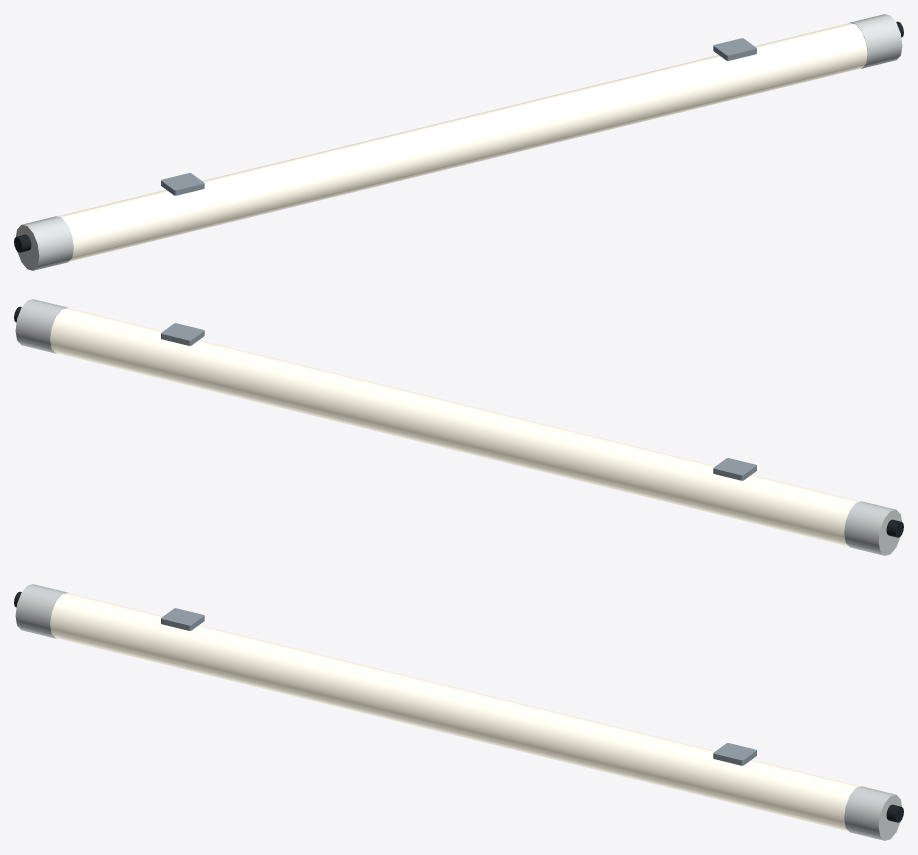
The model's file is source.glb.
3 renders of one model, top to bottom at view 1: azimuth 30°, elevation 25°; view 2: azimuth 150°, elevation 25°; view 3: azimuth 330°, elevation 25°, orthographic.
Visible parts, largest first — view 1: Emitters, 粉末涂层铝壳, 机加工金属; view 2: Emitters, 粉末涂层铝壳, 机加工金属; view 3: Emitters, 粉末涂层铝壳, 机加工金属.
Part boxes in pixels (x1,y1,x2,y2): Emitters: (57,23,867,261); 粉末涂层铝壳: (16,14,902,270); 机加工金属: (161,38,756,195); Emitters: (50,308,860,546); 粉末涂层铝壳: (15,299,901,555); 机加工金属: (161,323,756,480); Emitters: (50,593,860,831); 粉末涂层铝壳: (15,584,901,840); 机加工金属: (161,608,756,765).
Bounding box in the file's own units: 1.23 × 0.0662 × 0.0574.
